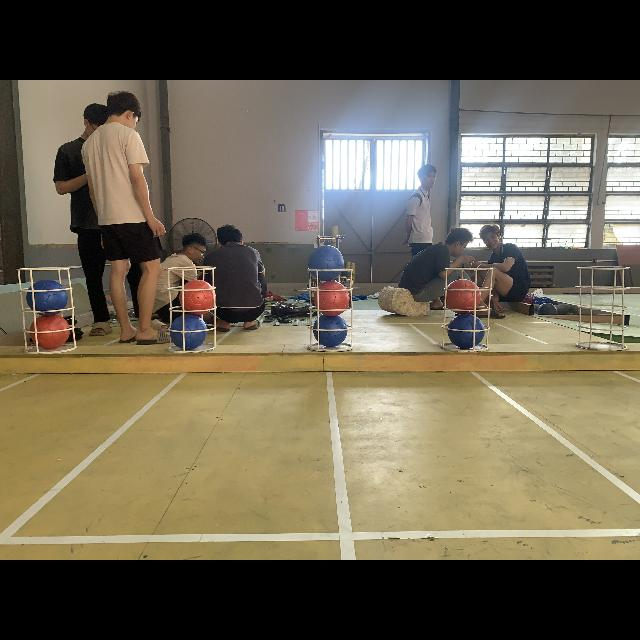B: (26, 280, 68, 318), (172, 314, 206, 350), (308, 246, 344, 280), (312, 314, 348, 348), (448, 314, 484, 348)
R: (29, 313, 71, 351), (445, 278, 481, 314), (313, 282, 351, 316), (180, 280, 216, 314)
